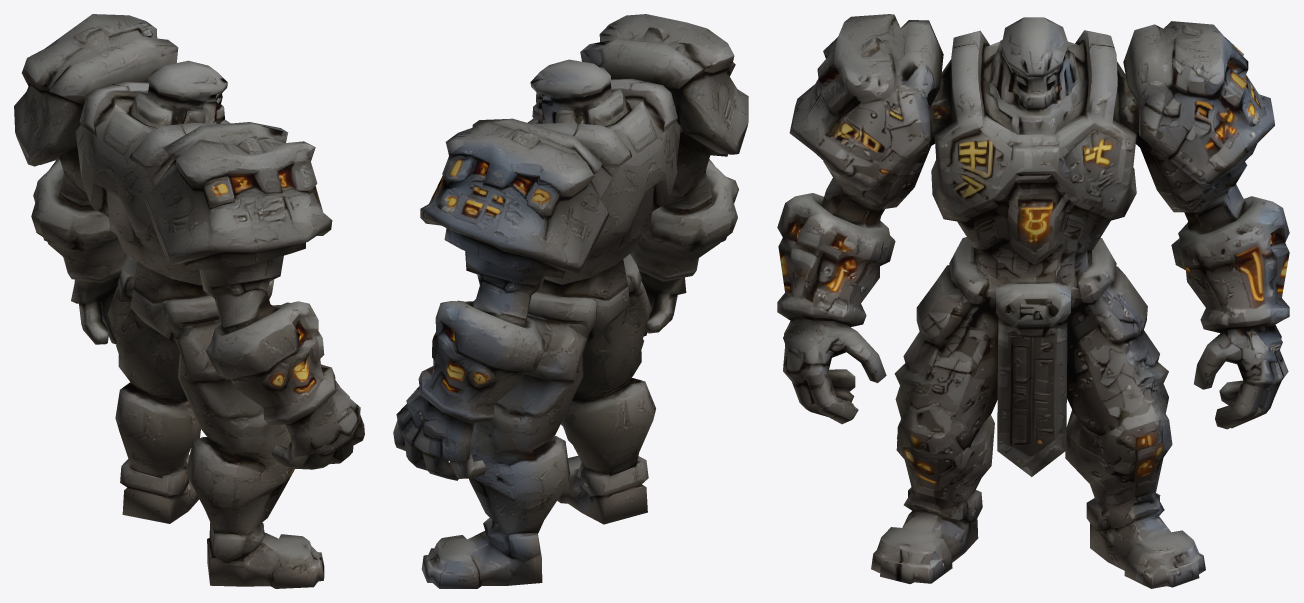
The model's file is coloso.glb.
3 views of the same model, side by side, from view 1: azimuth 30°, elevation 25°; view 2: azimuth 150°, elevation 25°; view 3: azimuth 270°, elevation 25° (orthographic). The views are drawn at different scales.
Parts seen in each view (by area): view 1: tripo_node_651cf179-45ea-4182-a412-e242406f71c3; view 2: tripo_node_651cf179-45ea-4182-a412-e242406f71c3; view 3: tripo_node_651cf179-45ea-4182-a412-e242406f71c3.
Boxes of the visible parts, bbox=[...] form: tripo_node_651cf179-45ea-4182-a412-e242406f71c3: bbox=[14, 14, 364, 588]; tripo_node_651cf179-45ea-4182-a412-e242406f71c3: bbox=[393, 14, 748, 588]; tripo_node_651cf179-45ea-4182-a412-e242406f71c3: bbox=[777, 14, 1289, 588].
Size of the model in its own units: 0.3926 by 0.998 by 0.8965.
Materials: 1 (1 with a texture image).
